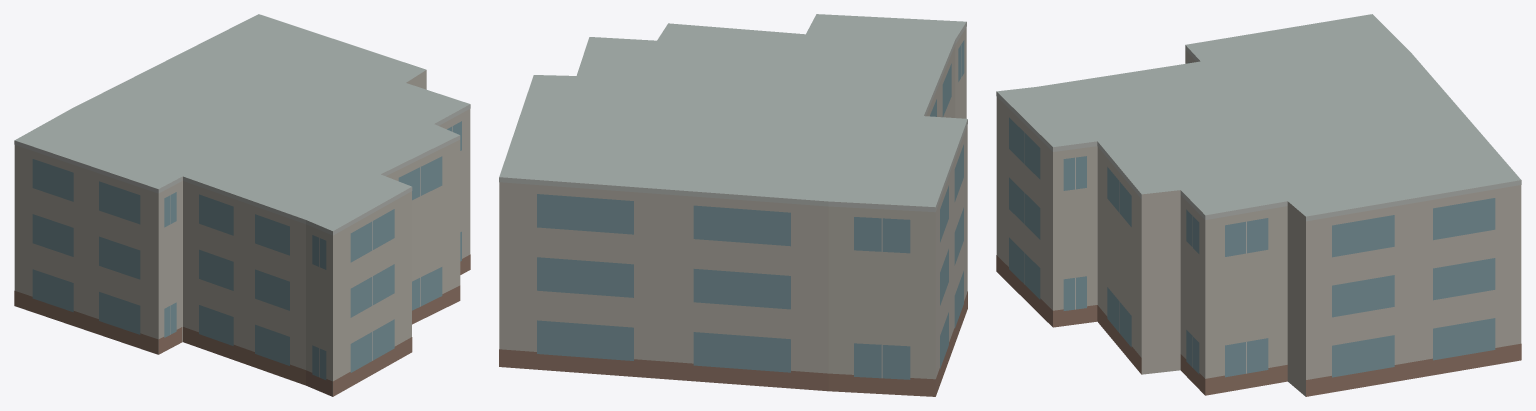
Rendered from survey-upis-32468898.glb.
3 renders of one model, left to right at view 1: azimuth 30°, elevation 25°; view 2: azimuth 150°, elevation 25°; view 3: azimuth 270°, elevation 25°, orthographic. The views are drawn at different scales.
Visible parts, largest first — view 1: survey-upis-32468898.tmp; view 2: survey-upis-32468898.tmp; view 3: survey-upis-32468898.tmp.
Boxes of the visible parts, x1,y1,x2,y2 form: survey-upis-32468898.tmp: (14,14,470,396); survey-upis-32468898.tmp: (499,14,967,396); survey-upis-32468898.tmp: (996,14,1521,396).
Size of the model in its own units: 22.06 by 9.15 by 24.16.
